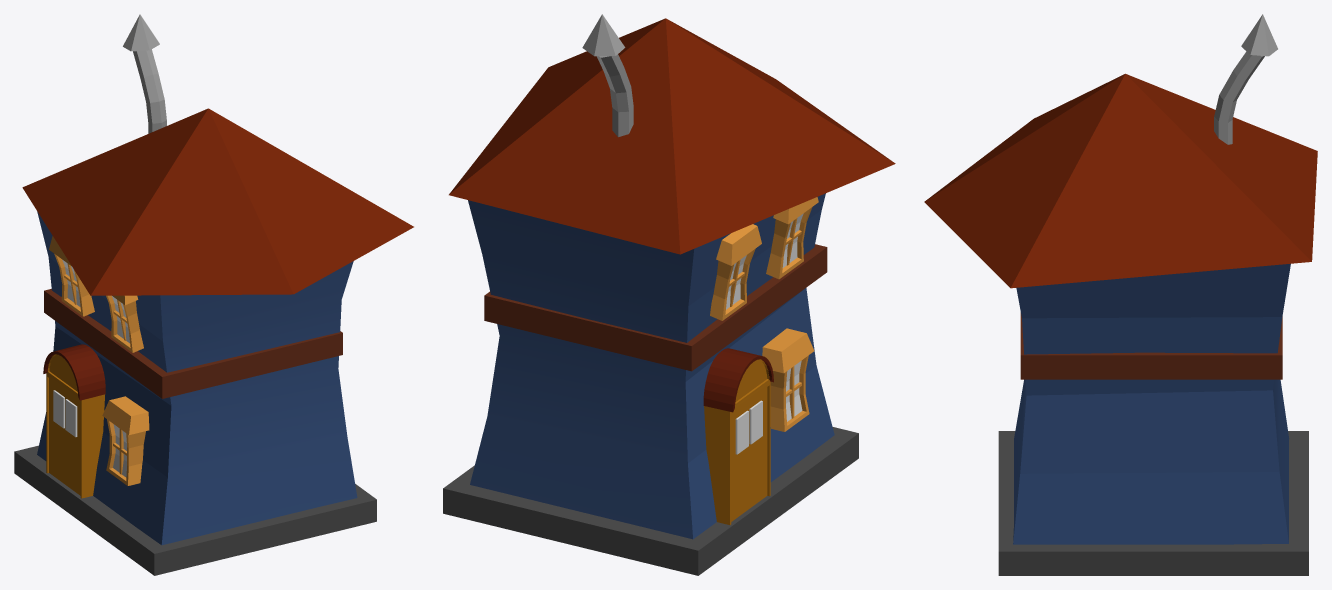
3 views of the same model, side by side, from view 1: azimuth 30°, elevation 25°; view 2: azimuth 150°, elevation 25°; view 3: azimuth 270°, elevation 25° (orthographic). The views are drawn at different scales.
Parts seen in each view (by area): view 1: Cube.007; view 2: Cube.007; view 3: Cube.007.
Part boxes in pixels (left/top/right/bottom): Cube.007: left=14, top=14, right=413, bottom=575; Cube.007: left=443, top=14, right=895, bottom=575; Cube.007: left=924, top=14, right=1317, bottom=575.
Size of the model in its own units: 1073 by 1469 by 1052.
